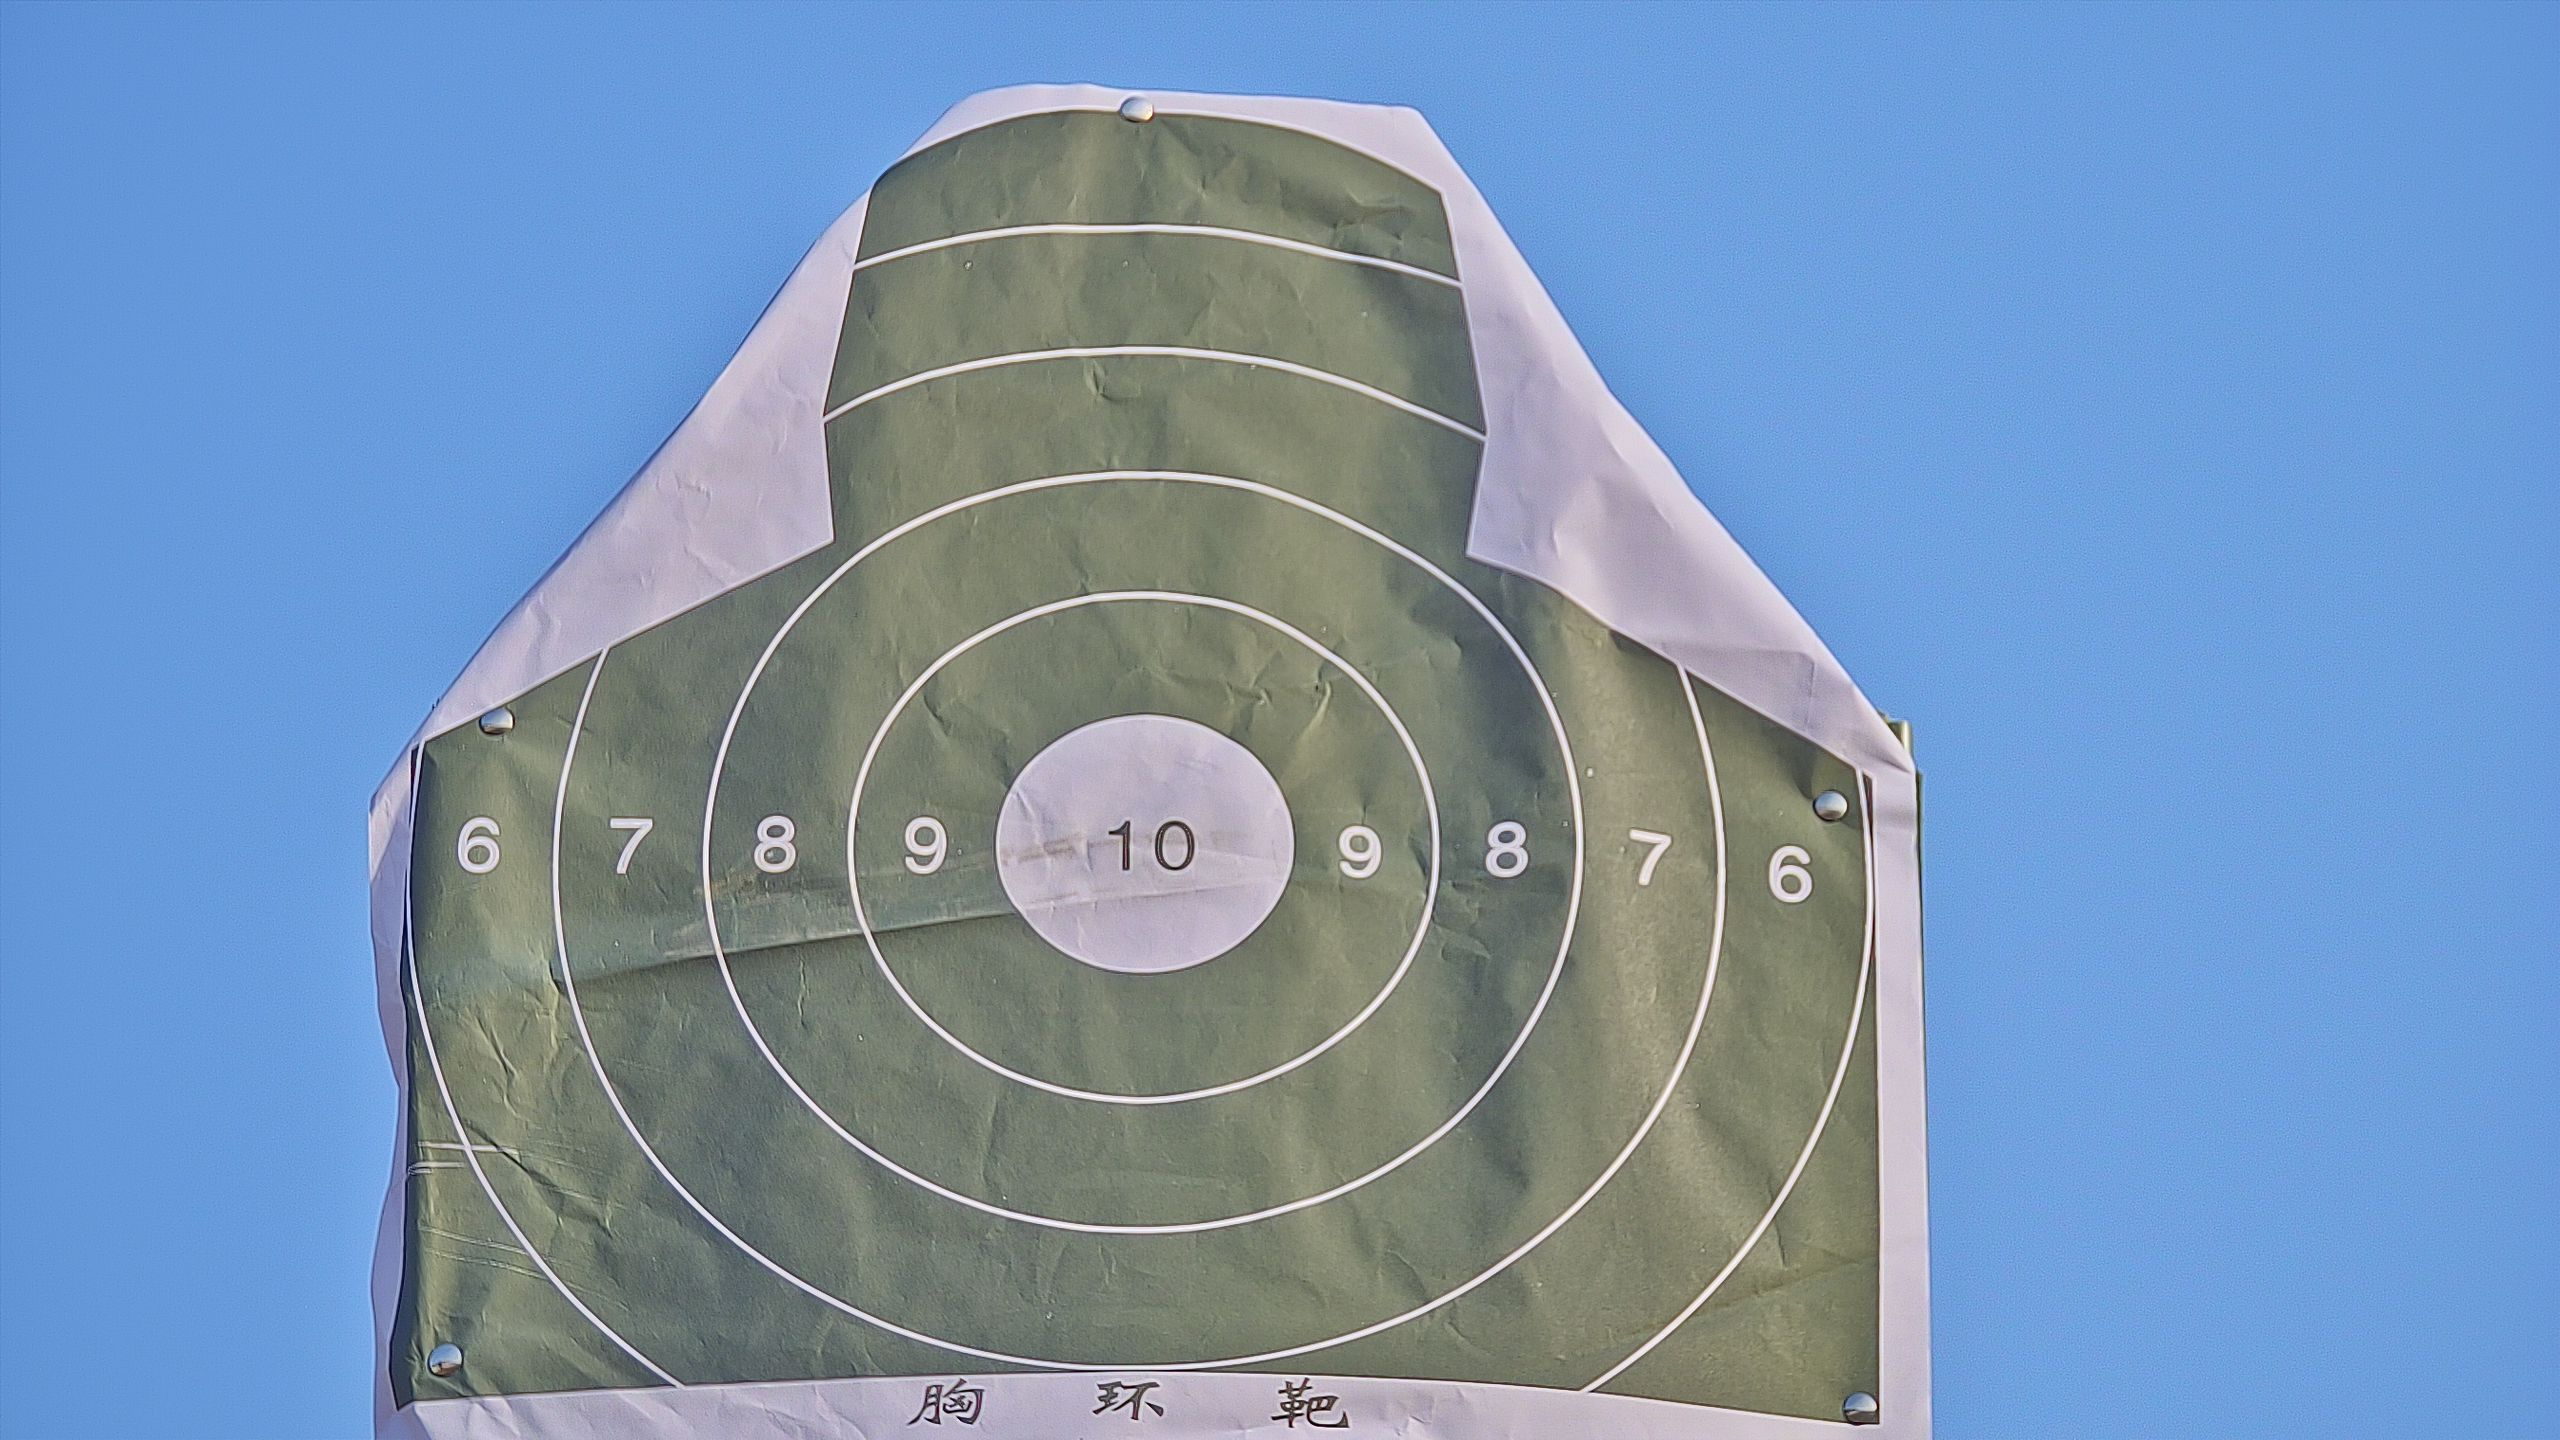kernel: (1139, 840, 1143, 846)
target: (403, 114, 1888, 1440)
ten: (990, 712, 1303, 978)
